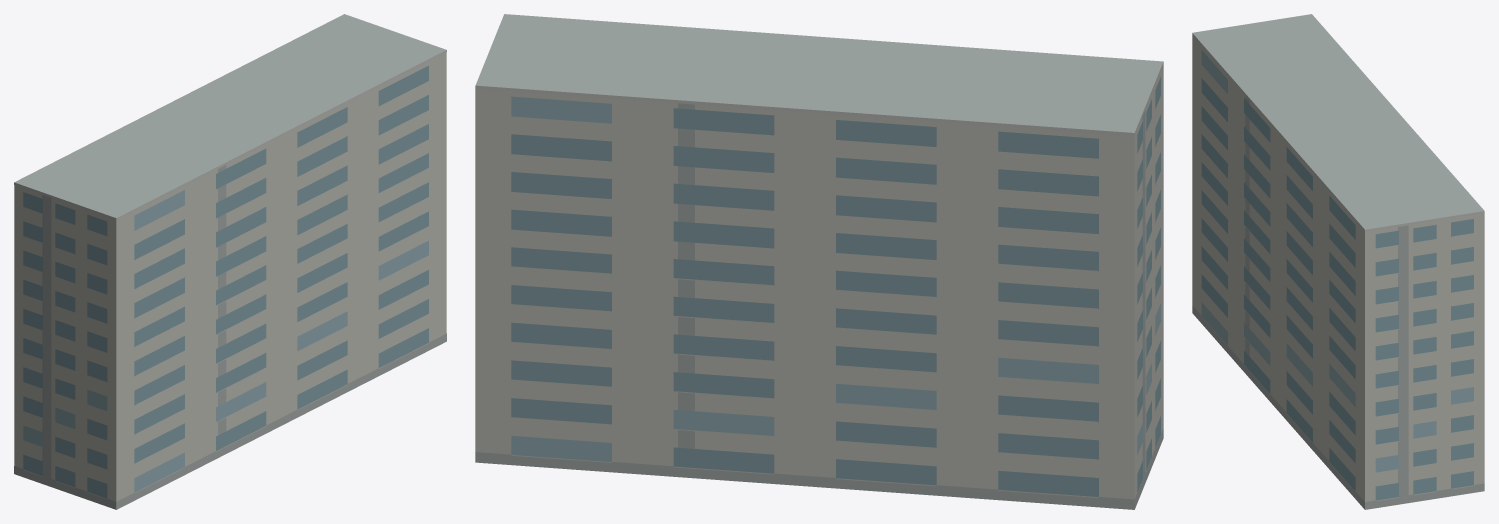
The model's file is residential-e4965b07-16cb-4201-86c7-323dff6b3c4f.glb.
3 views of the same model, side by side, from view 1: azimuth 30°, elevation 25°; view 2: azimuth 150°, elevation 25°; view 3: azimuth 270°, elevation 25° (orthographic). The views are drawn at different scales.
Parts seen in each view (by area): view 1: residential-e4965b07-16cb-4201-86c7-323dff6b3c4f.tmp; view 2: residential-e4965b07-16cb-4201-86c7-323dff6b3c4f.tmp; view 3: residential-e4965b07-16cb-4201-86c7-323dff6b3c4f.tmp.
Boxes of the visible parts, x1=… form: residential-e4965b07-16cb-4201-86c7-323dff6b3c4f.tmp: x1=14, y1=14, x2=446, y2=509; residential-e4965b07-16cb-4201-86c7-323dff6b3c4f.tmp: x1=475, y1=14, x2=1163, y2=509; residential-e4965b07-16cb-4201-86c7-323dff6b3c4f.tmp: x1=1192, y1=14, x2=1484, y2=509.
Size of the model in its own units: 47.9 by 29 by 27.45.
